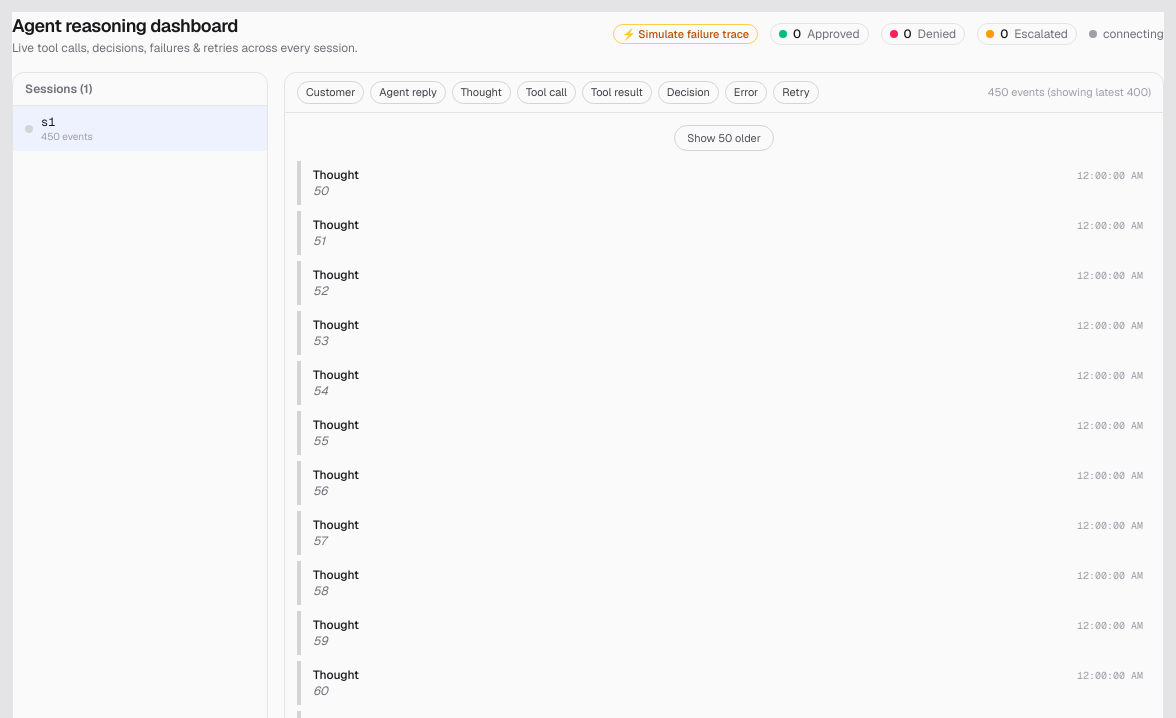
it: AdminDashboard (integration via a mocked EventSource) › paginates a >400-event session with a Show older control that reveals the rest
Expected: the text "450 events (showing latest 400)" is shown, [988, 84, 1151, 100]
Click the button "Show 50 older".
click(724, 138)  # box [674, 124, 774, 151]
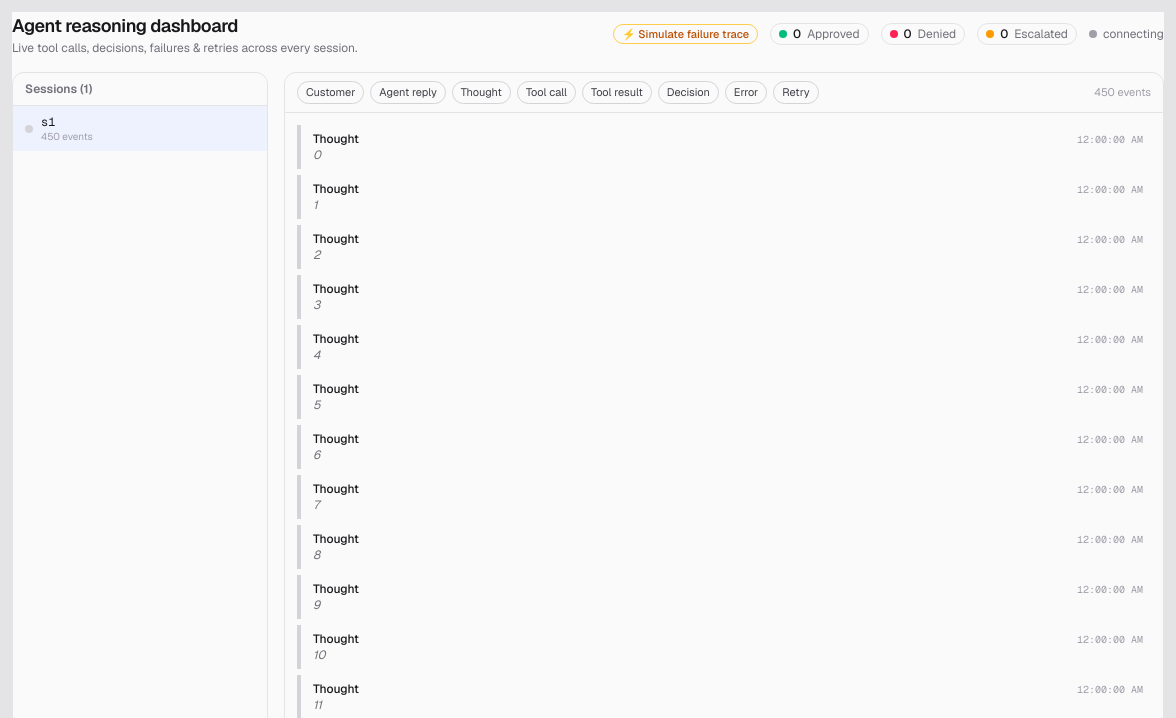
Result: the text "showing latest" is gone
Result: the button "older" is gone
